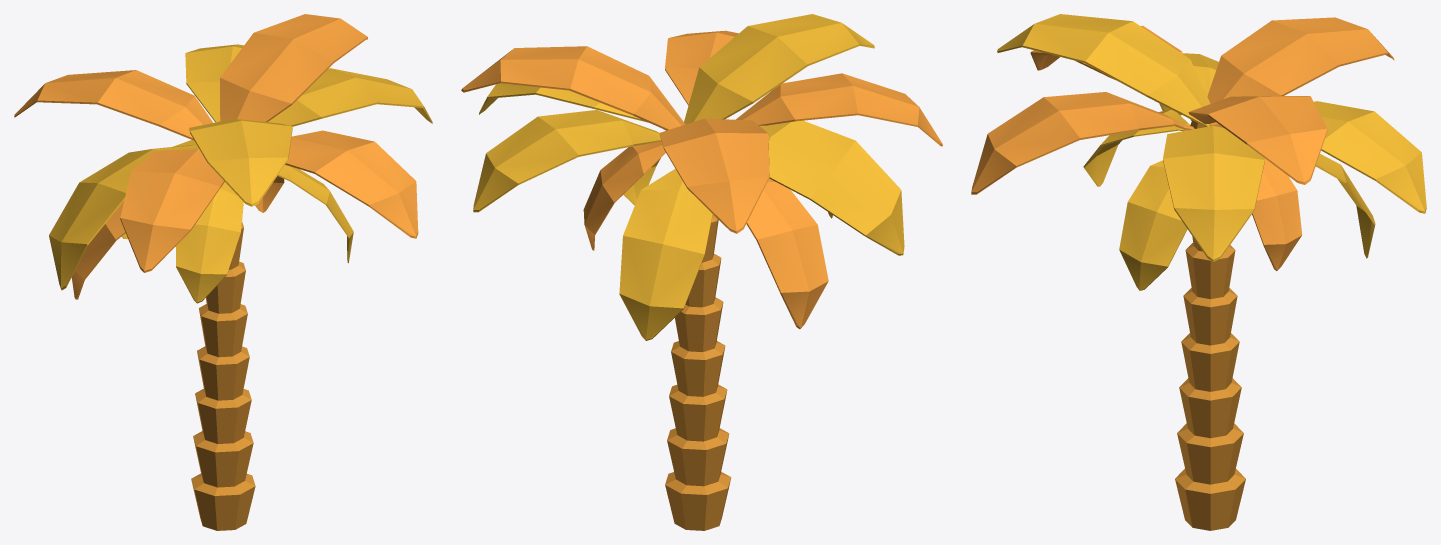
The model's file is Tree_08_Fall.fbx.
3 views of the same model, side by side, from view 1: azimuth 30°, elevation 25°; view 2: azimuth 150°, elevation 25°; view 3: azimuth 270°, elevation 25° (orthographic). The views are drawn at different scales.
Visible parts, largest first — view 1: Tree_08_p2_Fall, Tree_08_p1_Fall; view 2: Tree_08_p2_Fall, Tree_08_p1_Fall; view 3: Tree_08_p2_Fall, Tree_08_p1_Fall.
Part boxes in pixels (bbox=[...]): Tree_08_p2_Fall: bbox=[14, 14, 432, 303]; Tree_08_p1_Fall: bbox=[191, 221, 255, 530]; Tree_08_p2_Fall: bbox=[461, 14, 942, 340]; Tree_08_p1_Fall: bbox=[665, 214, 731, 530]; Tree_08_p2_Fall: bbox=[971, 14, 1426, 290]; Tree_08_p1_Fall: bbox=[1175, 120, 1245, 530].
Size of the model in its own units: 352 by 380 by 333.
